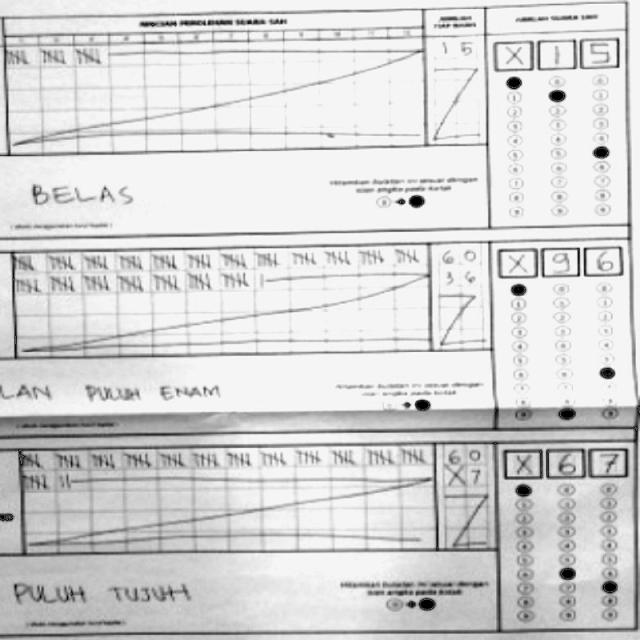Suara: (500, 442, 630, 479), (493, 243, 624, 277), (491, 38, 624, 68)
